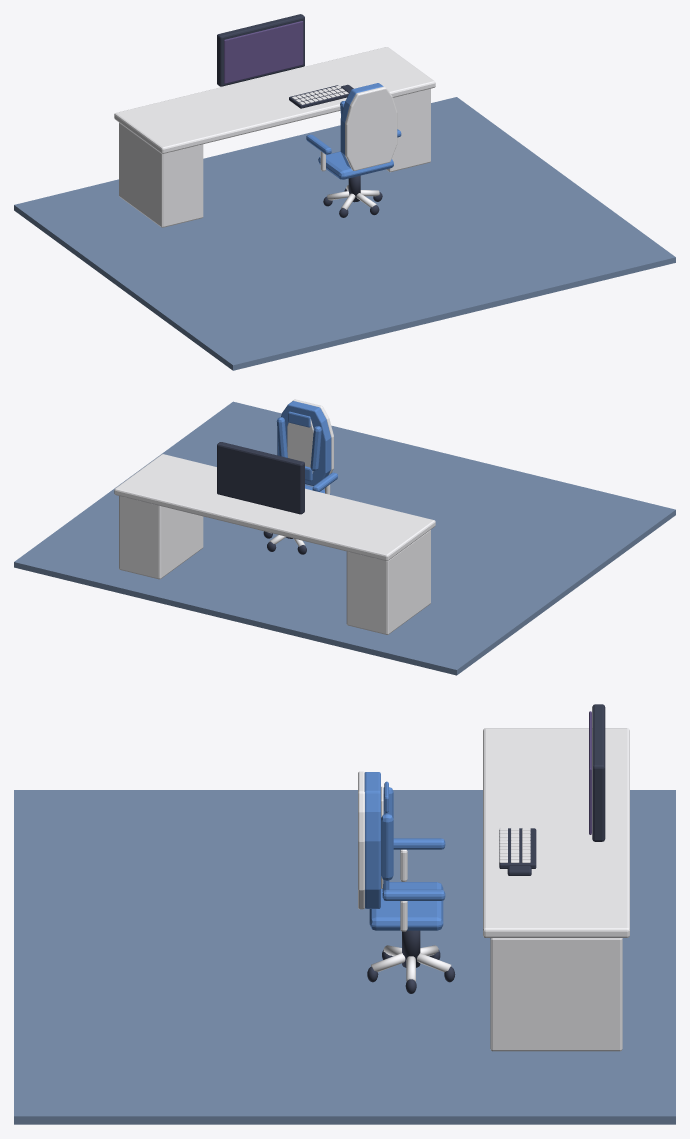
Rendered from fixture-production.glb.
3 renders of one model, top to bottom at view 1: azimuth 30°, elevation 25°; view 2: azimuth 150°, elevation 25°; view 3: azimuth 270°, elevation 25°, orthographic. The views are drawn at different scales.
Visible parts, largest first — view 1: fixture-floor, desk, desk-pedestal, chair-white-shell, monitor-screen-proof, desk-pedestal.001, monitor-proof, chair-seat, chair-back; view 2: fixture-floor, desk, desk-pedestal, desk-pedestal.001, monitor-proof, chair-back, chair-back-insert; view 3: fixture-floor, desk, desk-pedestal.001, chair-seat, chair-back, monitor-proof, chair-white-shell, chair-back-bolster-1, chair-arm.001, keyboard-proof, chair-arm.
Part boxes in pixels (x1,y1,x2,y2): fixture-floor: [14, 97, 675, 370]; desk: [114, 47, 435, 153]; desk-pedestal: [119, 122, 203, 227]; chair-white-shell: [345, 86, 397, 170]; monitor-screen-proof: [224, 21, 303, 83]; desk-pedestal.001: [386, 88, 430, 172]; monitor-proof: [217, 14, 304, 86]; chair-seat: [318, 151, 393, 179]; chair-back: [340, 83, 383, 168]; fixture-floor: [14, 401, 675, 675]; desk: [114, 454, 435, 560]; desk-pedestal: [346, 530, 430, 634]; desk-pedestal.001: [119, 496, 203, 579]; monitor-proof: [217, 442, 304, 514]; chair-back: [277, 401, 331, 485]; chair-back-insert: [287, 419, 313, 473]; fixture-floor: [14, 790, 675, 1124]; desk: [483, 728, 629, 937]; desk-pedestal.001: [490, 938, 622, 1051]; chair-seat: [369, 882, 443, 930]; chair-back: [364, 772, 380, 908]; monitor-proof: [592, 704, 605, 841]; chair-white-shell: [358, 771, 364, 909]; chair-back-bolster-1: [381, 813, 393, 880]; chair-arm.001: [382, 889, 445, 900]; keyboard-proof: [499, 828, 536, 868]; chair-arm: [393, 838, 445, 849].
Size of the model in its own units: 4.2 by 1.36 by 3.6.
